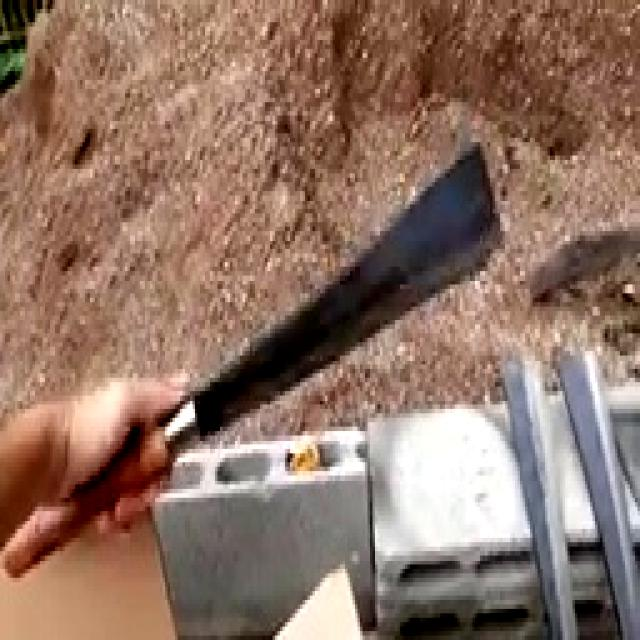eto: (0, 136, 509, 583)
